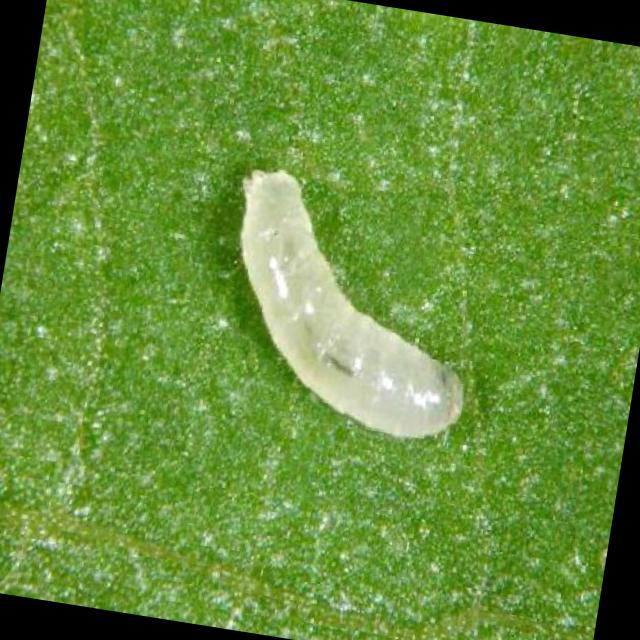whorl-maggot: (202, 157, 500, 452)
